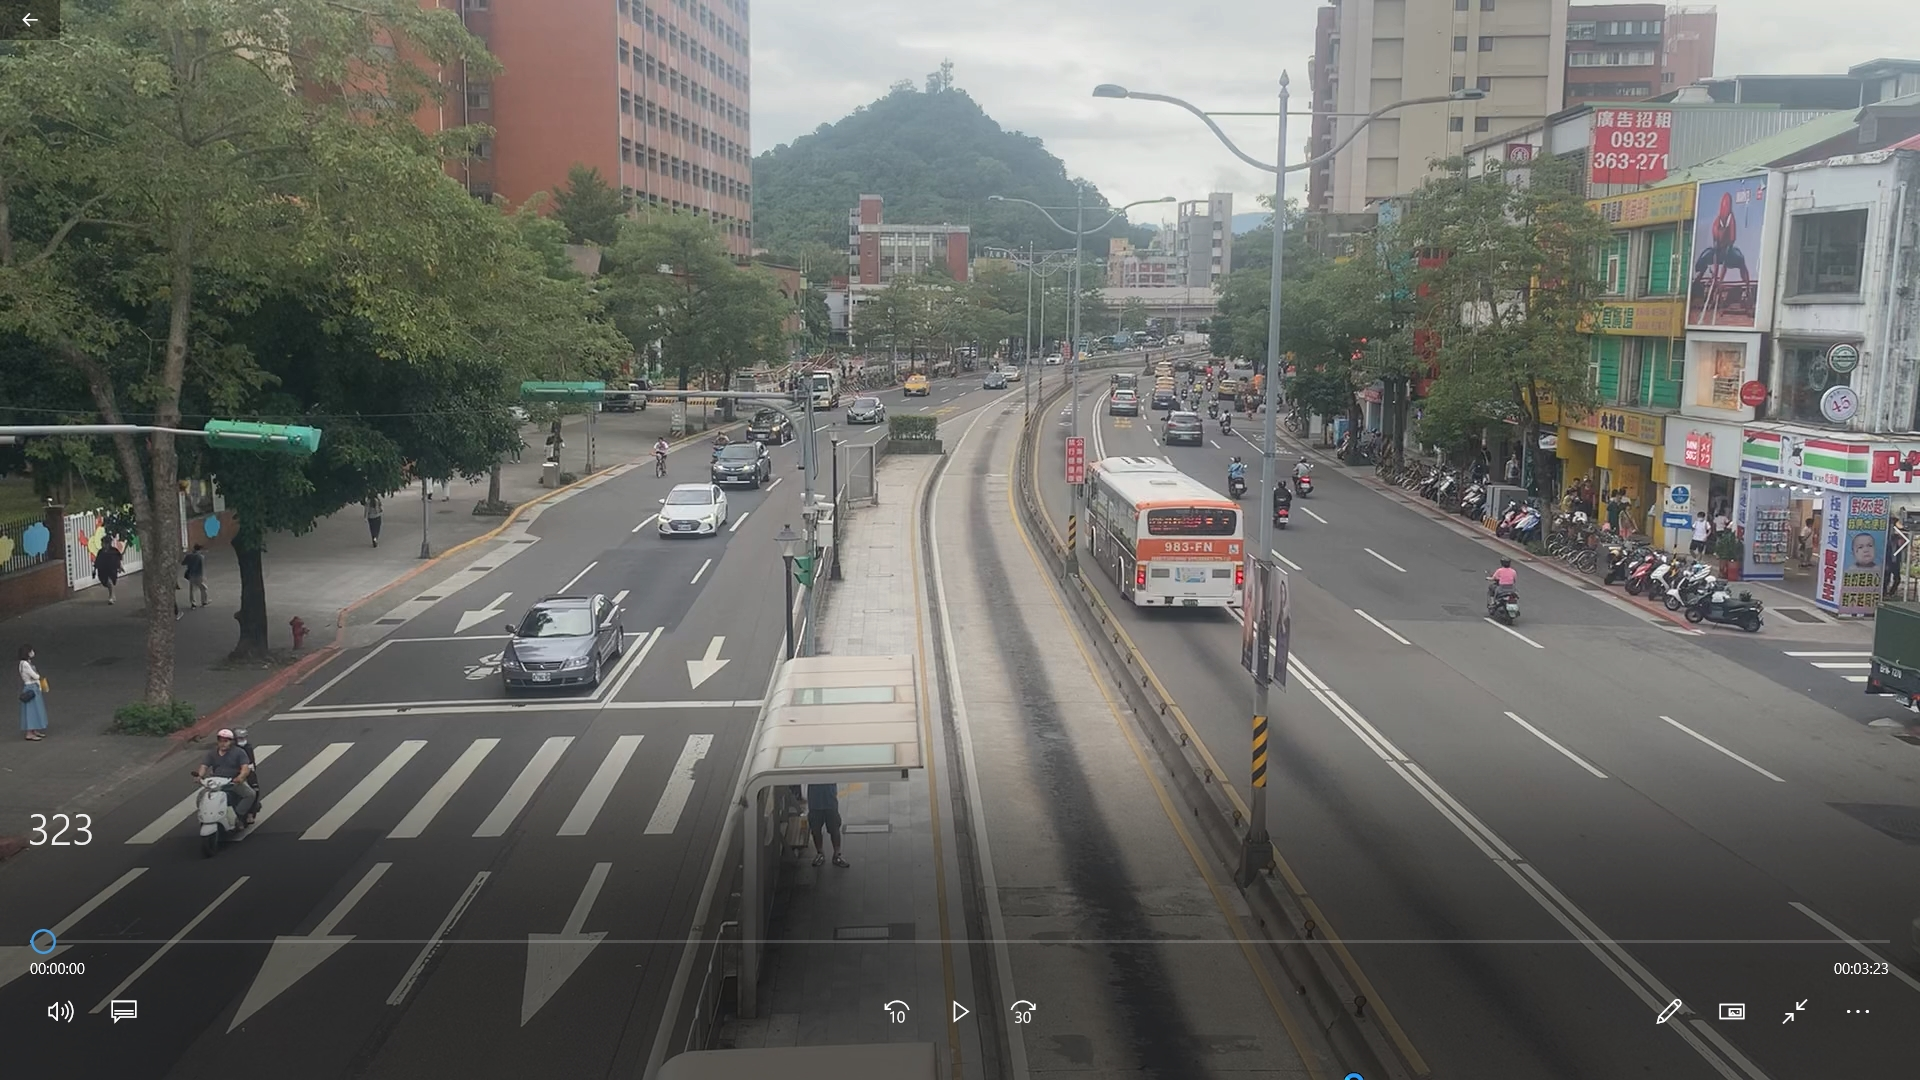Bus: (1077, 450, 1240, 618)
Business Passenger Car: (895, 371, 938, 401)
Motorcycle: (193, 717, 262, 851), (1485, 550, 1528, 633), (1228, 450, 1263, 512), (1267, 472, 1299, 533), (1294, 450, 1317, 501)
Private Passenger Car: (506, 589, 617, 698), (655, 479, 728, 550), (709, 436, 774, 500), (1163, 404, 1207, 447), (839, 392, 885, 429), (1106, 386, 1139, 419)
